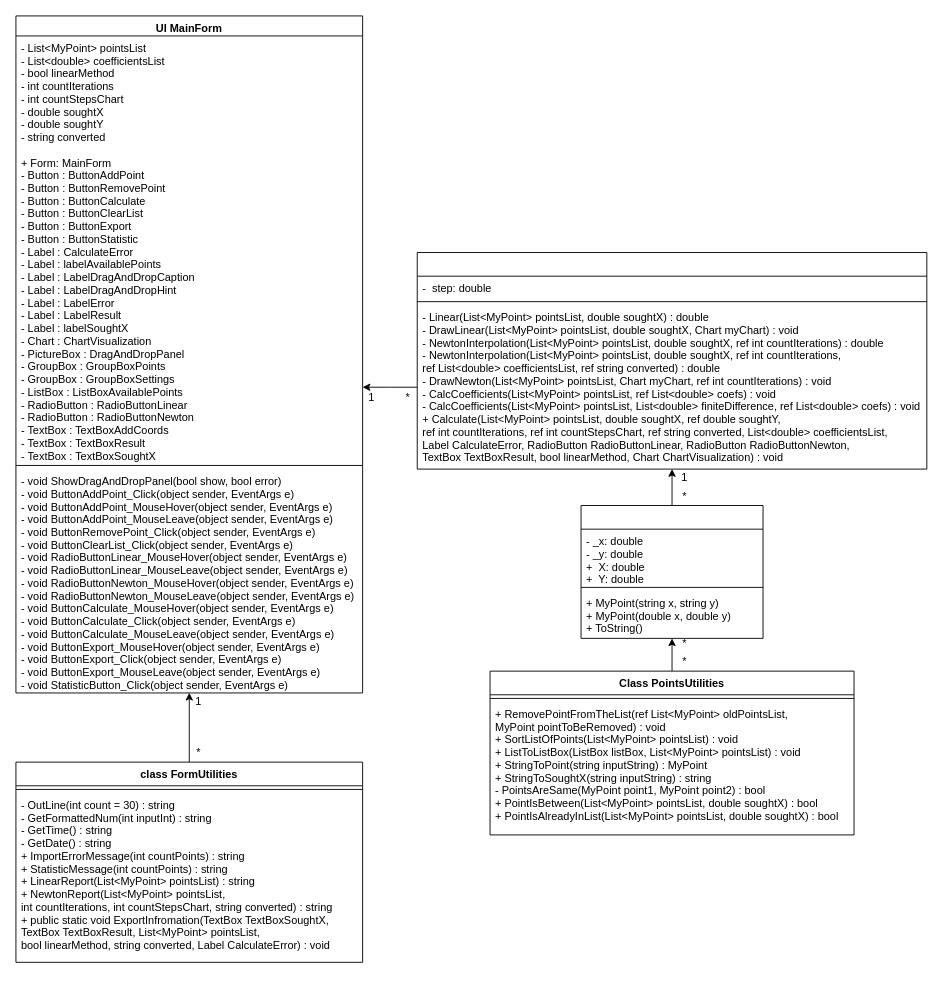
Image size: 943x981. Some labels were removed from this diagram. The shapes that lost their labels are listed below. From the top down, each one's box as (x1, y1, x2, y2) in pixels, then its label:
(416, 252, 927, 469): Class Interpolate
(580, 505, 763, 638): Class MyPoint
